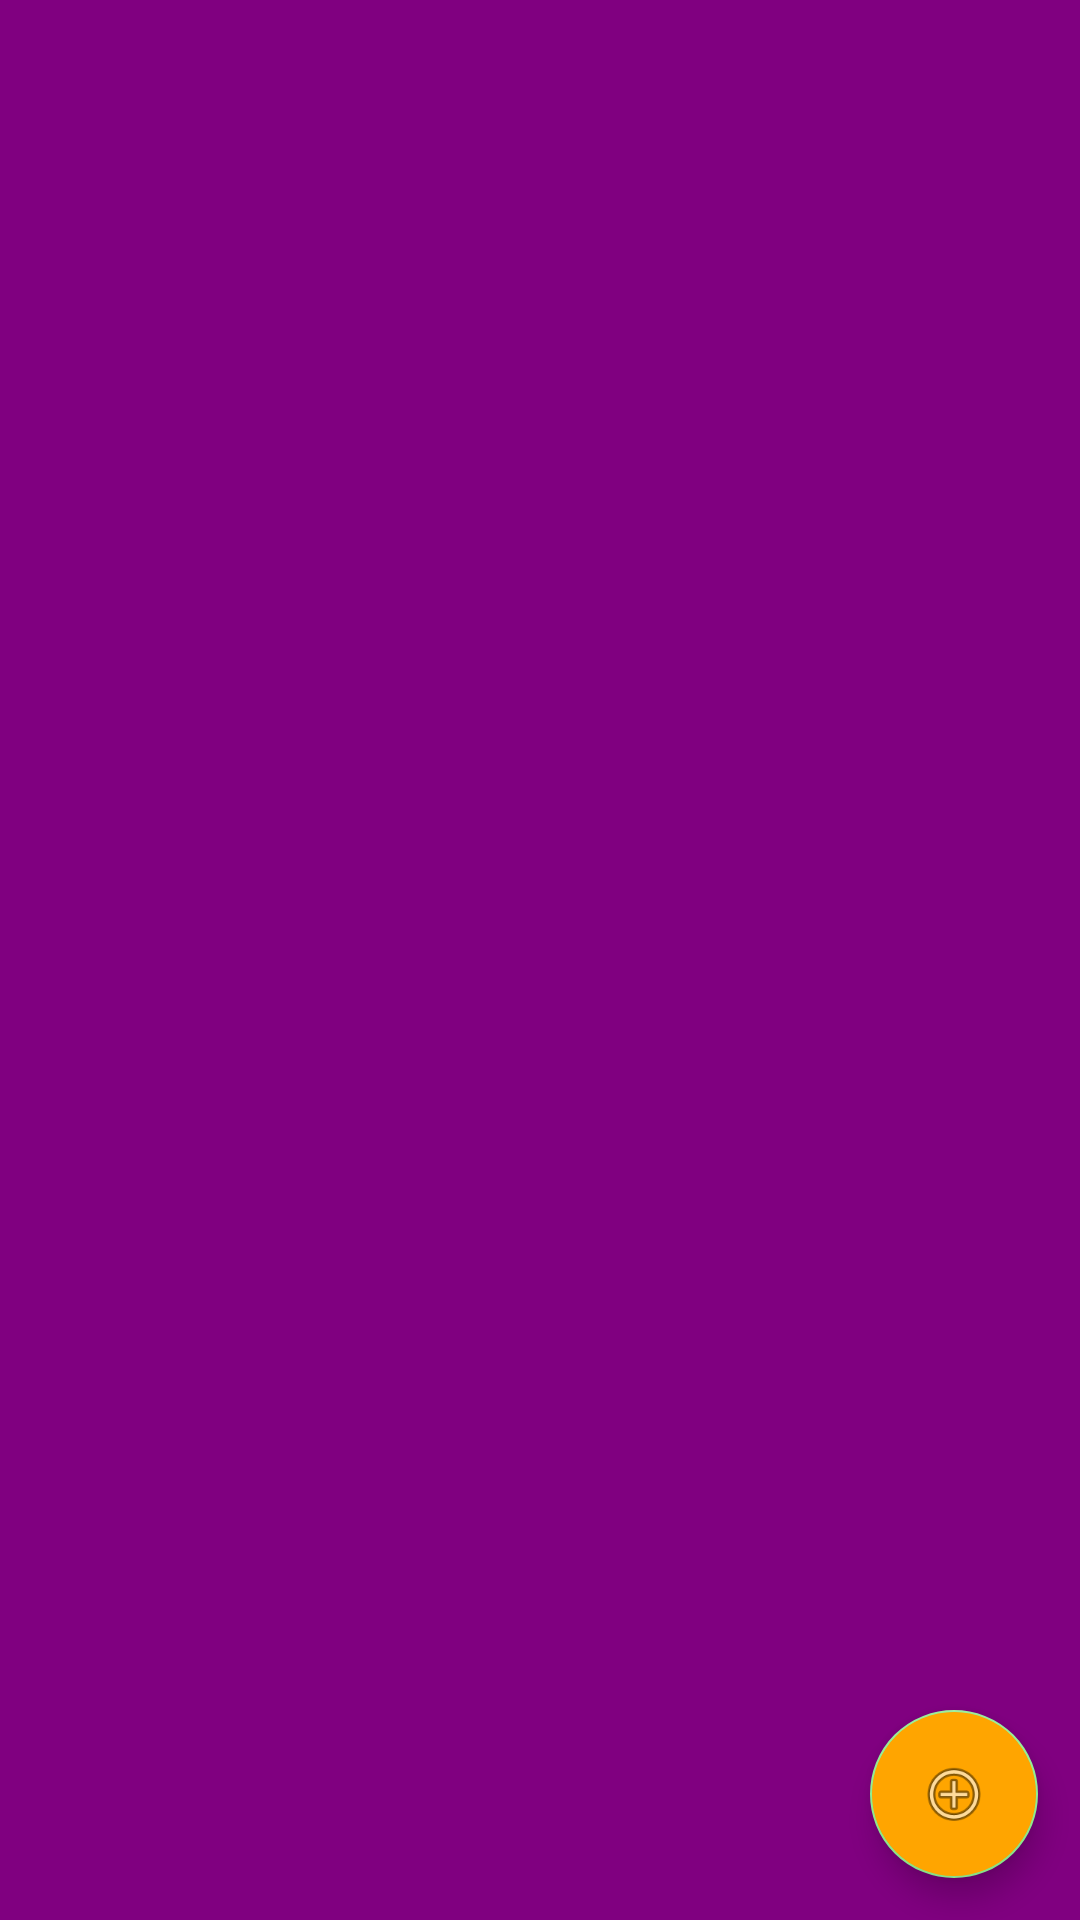

Icon bounding boxes for this 1080*1920 phone screenshot, format (x1, y1, x2, y2):
add: (870, 1710, 1038, 1878)
